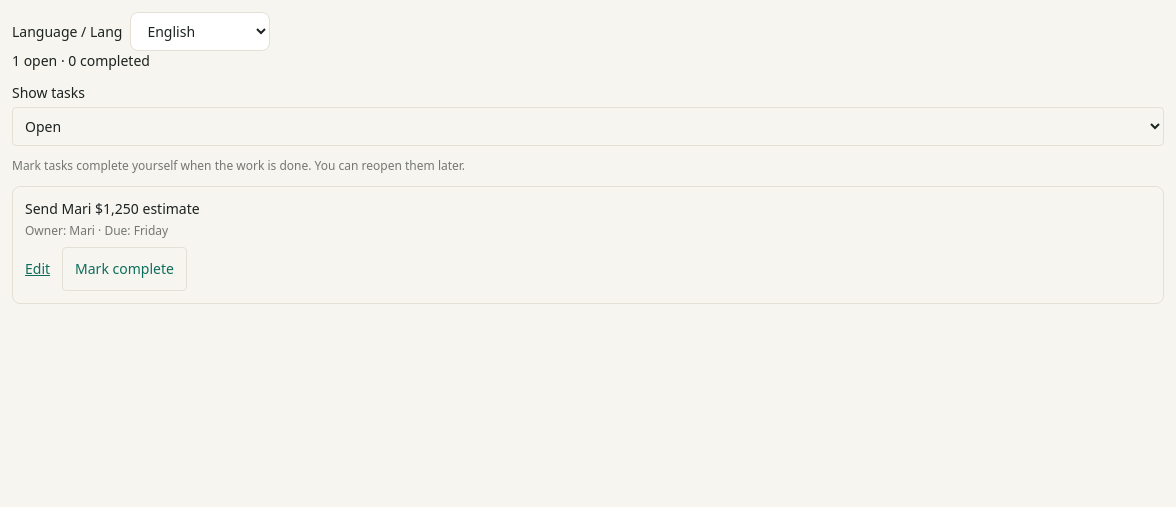
Test: keeps task edits intact when switching among pilot languages
Step 1. Click the button with aria-label "Edit task: Send Mari $1,250 estimate" → (38, 269), box x1=25 y1=247 x2=50 y2=291
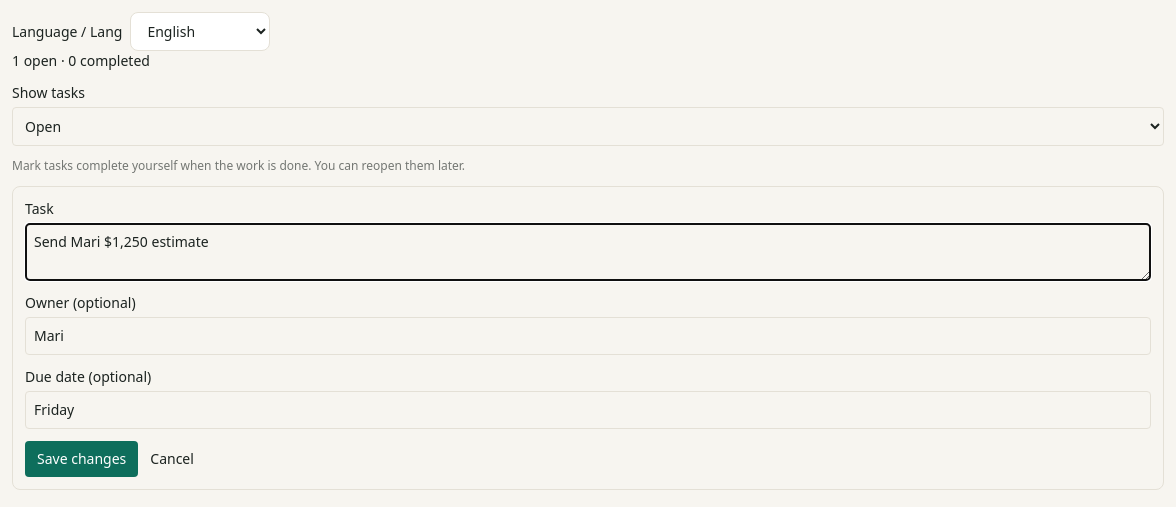
Step 2. Replace the text in the text box labelled "Task" with "My own corrected wording" → (588, 252), box x1=25 y1=223 x2=1151 y2=281
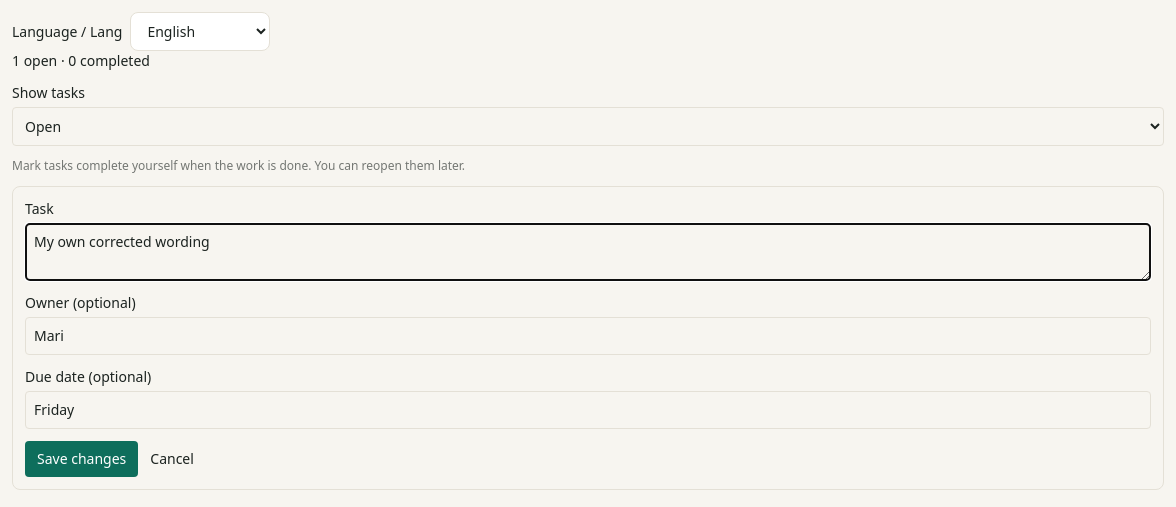
Step 3. Select "Kreyòl ayisyen" in the dropdown labelled "Language / Lang" → (200, 32), box x1=130 y1=12 x2=270 y2=51
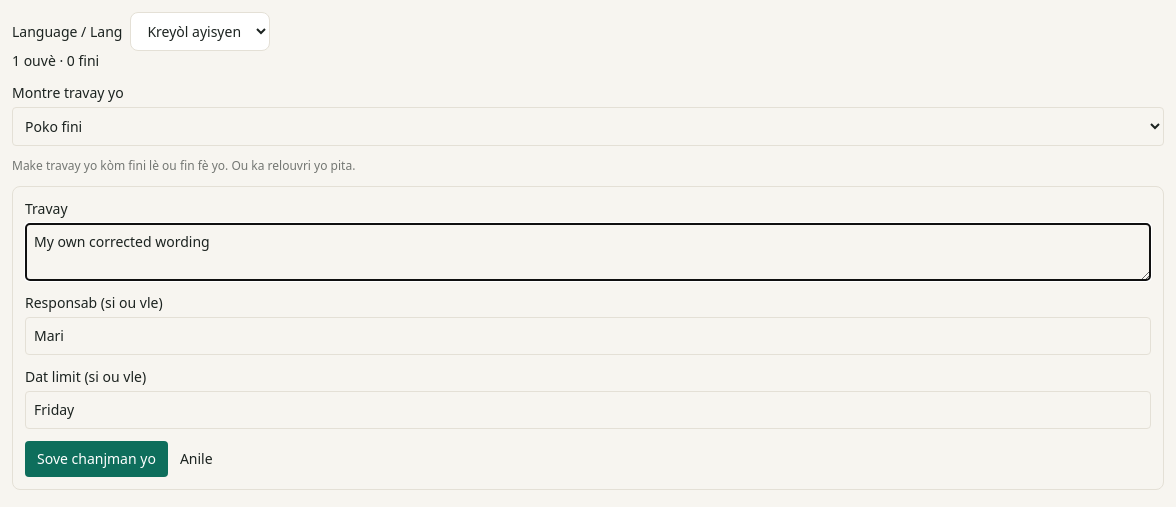
Expected: the field labelled "Responsab (si ou vle)" holds "Mari", x1=25 y1=317 x2=1151 y2=355
Expected: the button "Sove chanjman yo" is shown, x1=25 y1=441 x2=168 y2=477
Step 4. Select "Français" in the dropdown labelled "Language / Lang" → (200, 32), box x1=130 y1=12 x2=270 y2=51
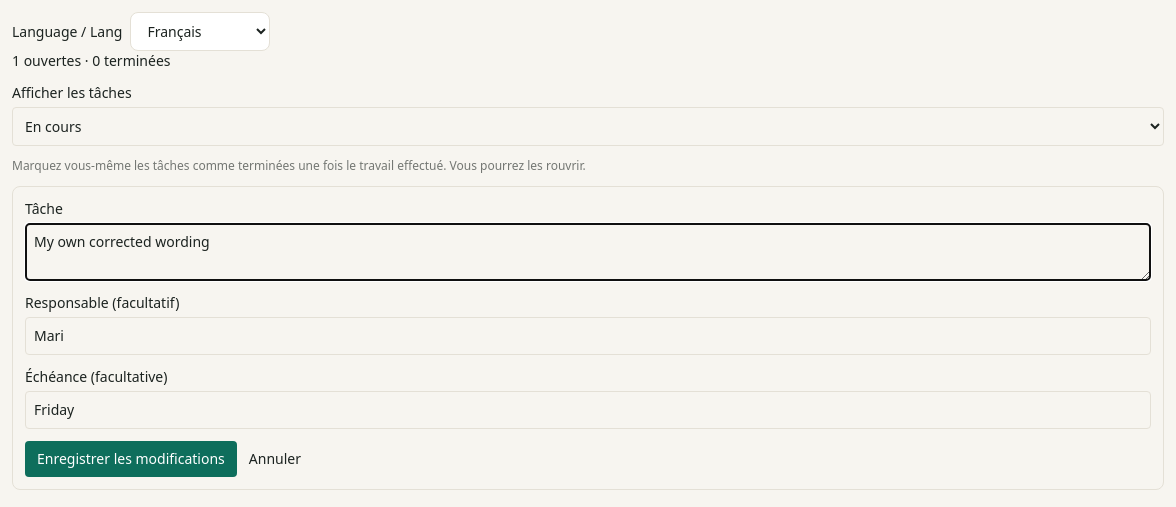
Expected: the field labelled "Responsable (facultatif)" holds "Mari", x1=25 y1=317 x2=1151 y2=355
Expected: the button "Enregistrer les modifications" is shown, x1=25 y1=441 x2=237 y2=477
Step 5. Select "Español" in the dropdown labelled "Language / Lang" → (200, 32), box x1=130 y1=12 x2=270 y2=51
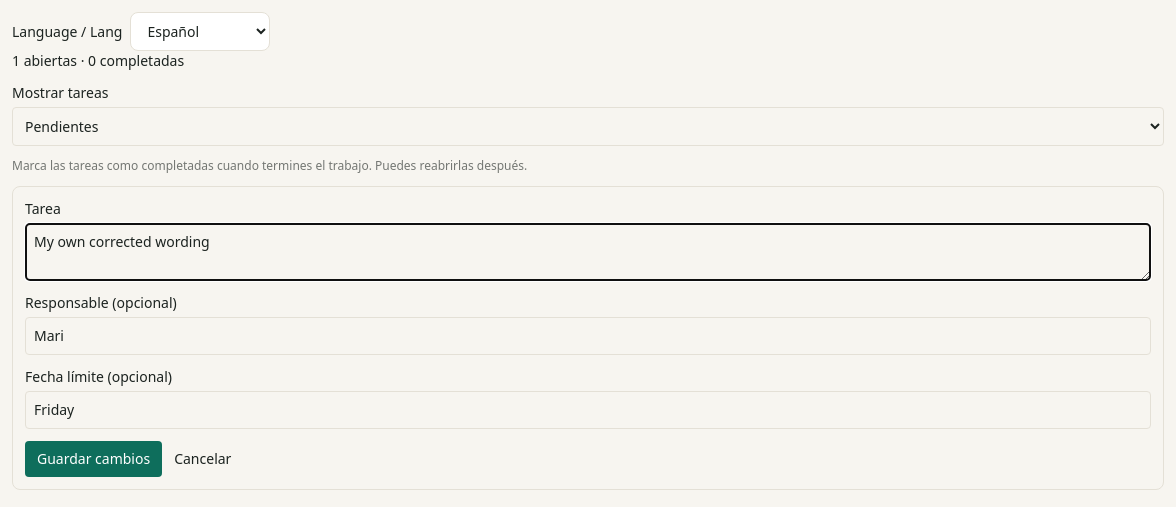
Expected: the field labelled "Responsable (opcional)" holds "Mari", x1=25 y1=317 x2=1151 y2=355
Expected: the button "Guardar cambios" is shown, x1=25 y1=441 x2=162 y2=477
